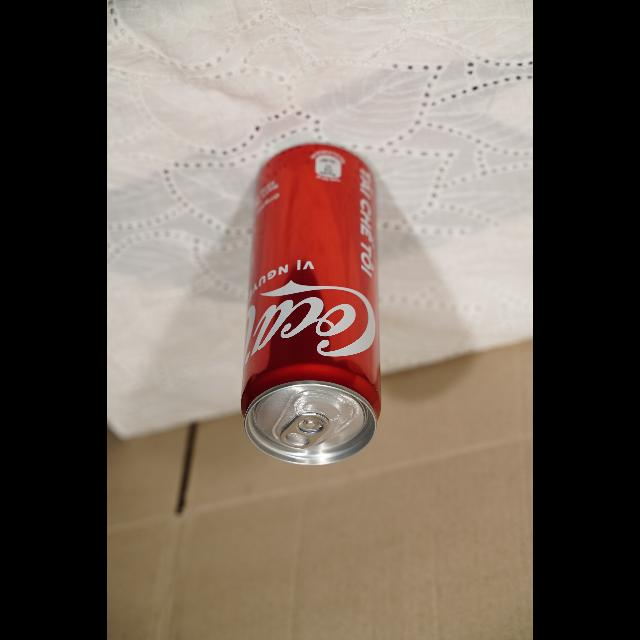coca_cola: (240, 144, 382, 466)
